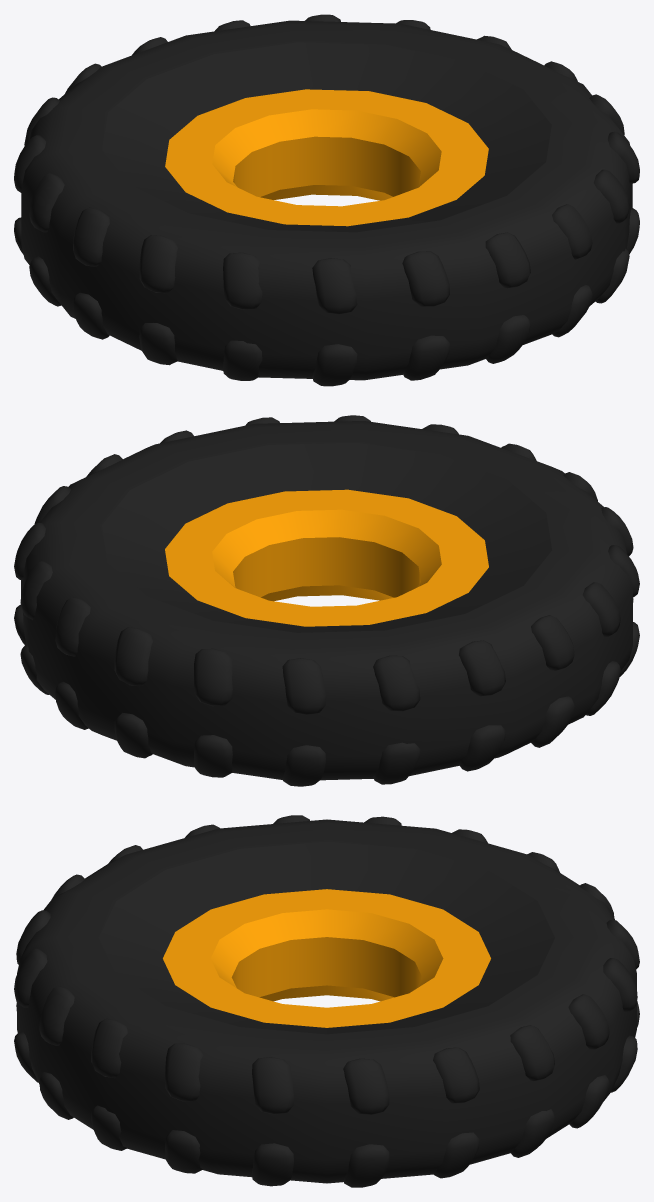
Rendered from wheel.fbx.
3 views of the same model, one above another, from view 1: azimuth 30°, elevation 25°; view 2: azimuth 150°, elevation 25°; view 3: azimuth 270°, elevation 25° (orthographic).
Parts seen in each view (by area): view 1: Cylinder.003; view 2: Cylinder.003; view 3: Cylinder.003.
Boxes of the visible parts, <box> form: Cylinder.003: <box>14,14,639,386</box>; Cylinder.003: <box>14,415,639,786</box>; Cylinder.003: <box>14,815,639,1187</box>.
Bounding box in the file's own units: 202 × 46 × 202.
